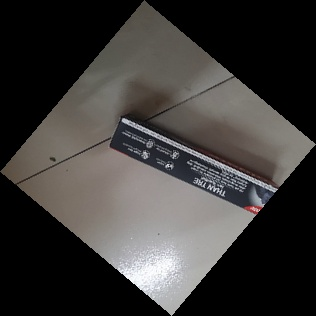Colgate Than: (108, 114, 295, 218)
